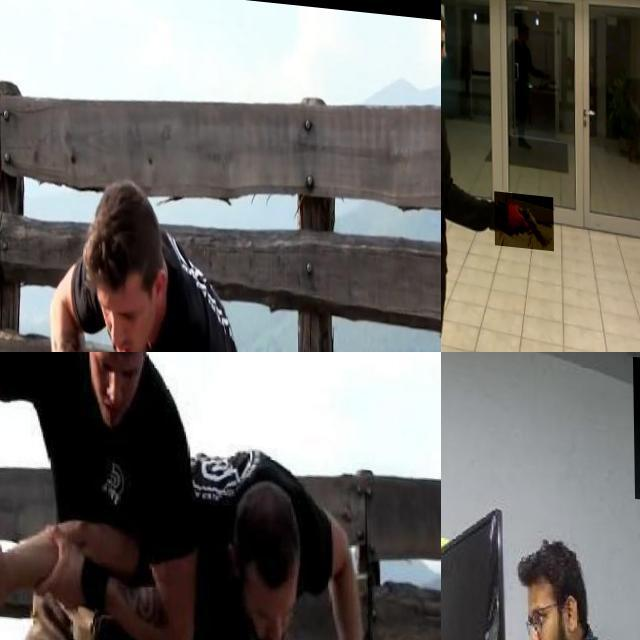-: (0, 528, 43, 623)
gun-knife-thesis - v11 Yolov5 augmented: (493, 184, 552, 242)
